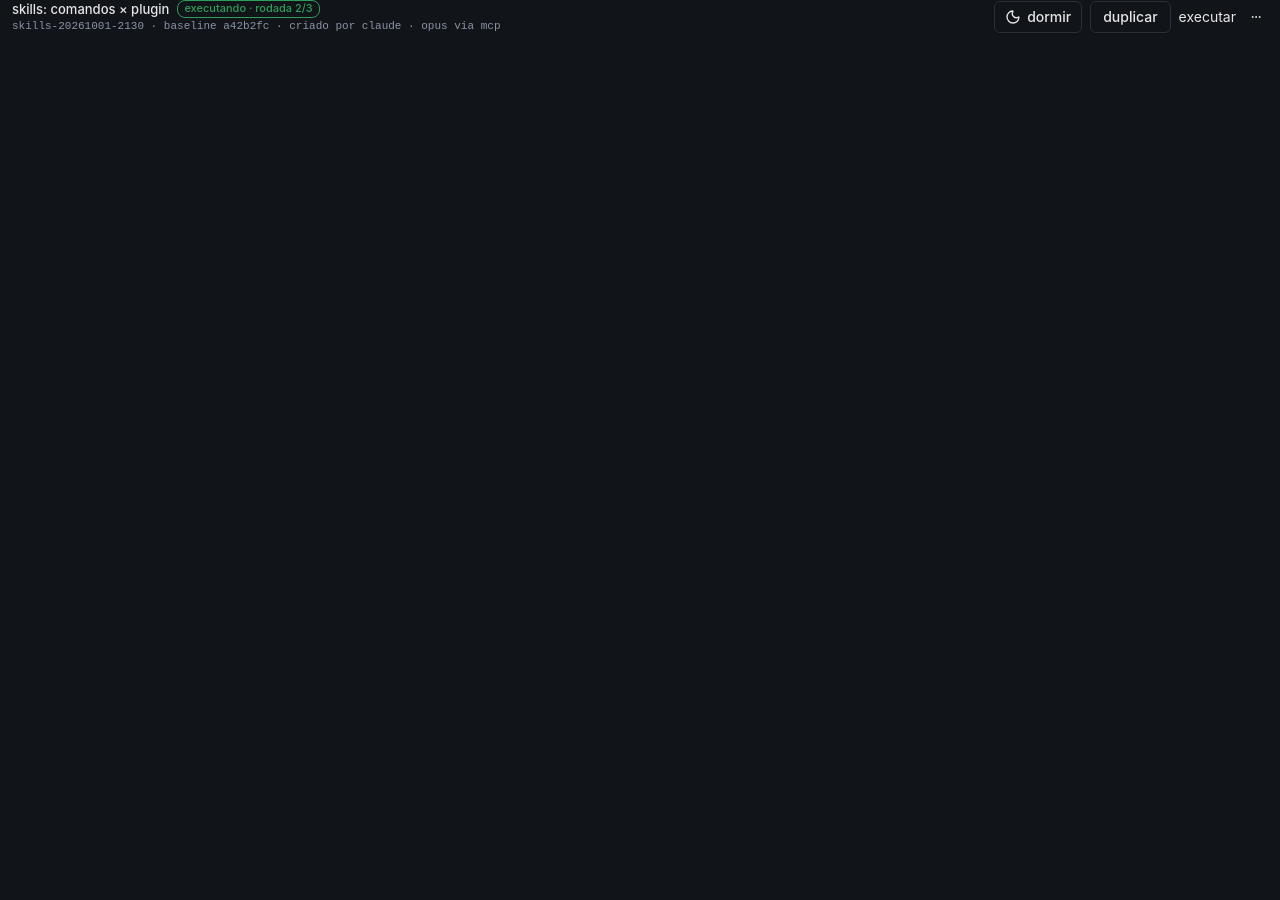
Test: dormir sits only while running and opens Dormir experimento; awake, the tab primary renders (#461, #468)
This screenshot has width=1280, height=900.
Check: the button "executar" is shown, box [1179,7,1236,27]
Click the button "dormir".
click(1038, 17)  # box [994,1,1082,33]
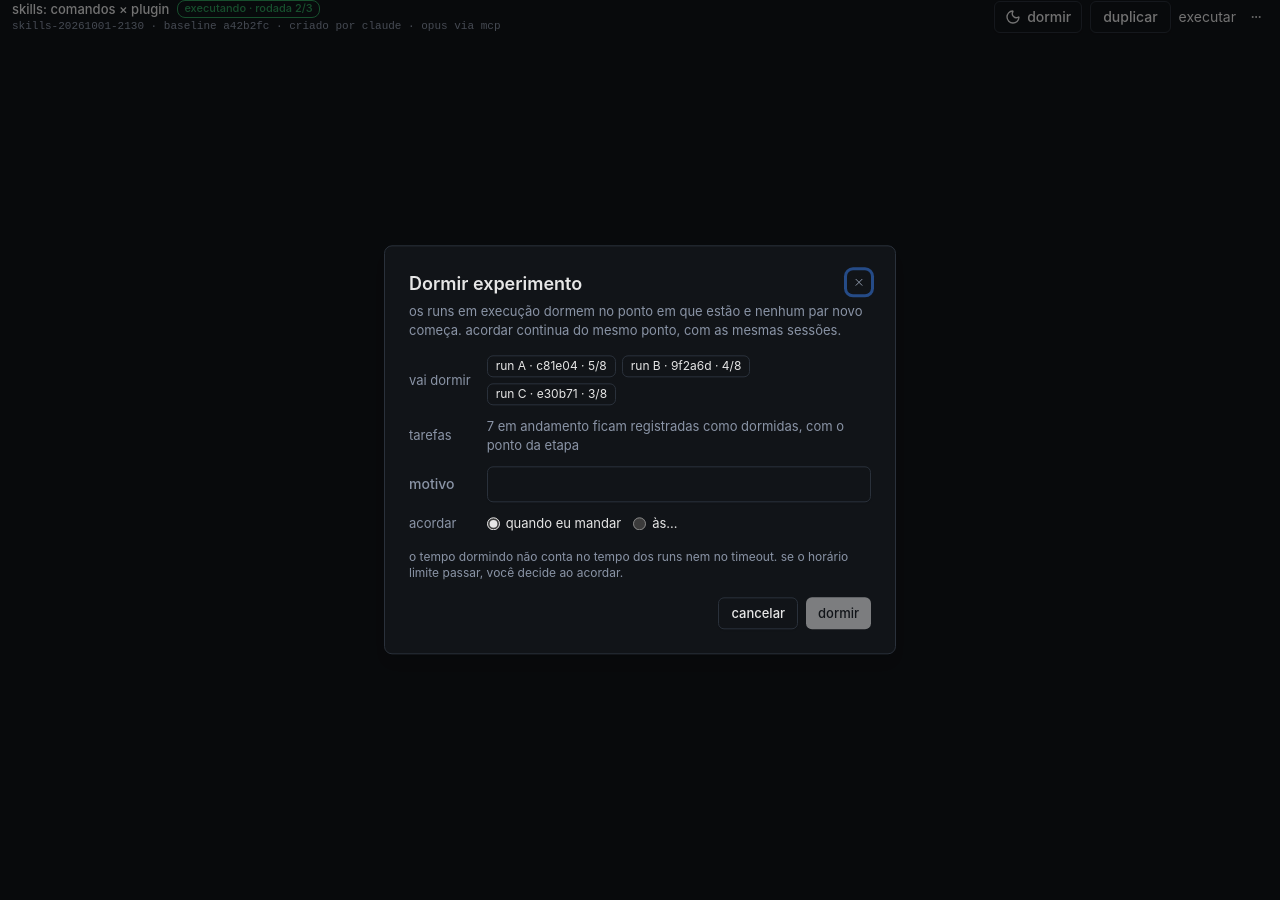
Check: the dialog "Dormir experimento" is shown, box [384,245,896,655]
Press Escape
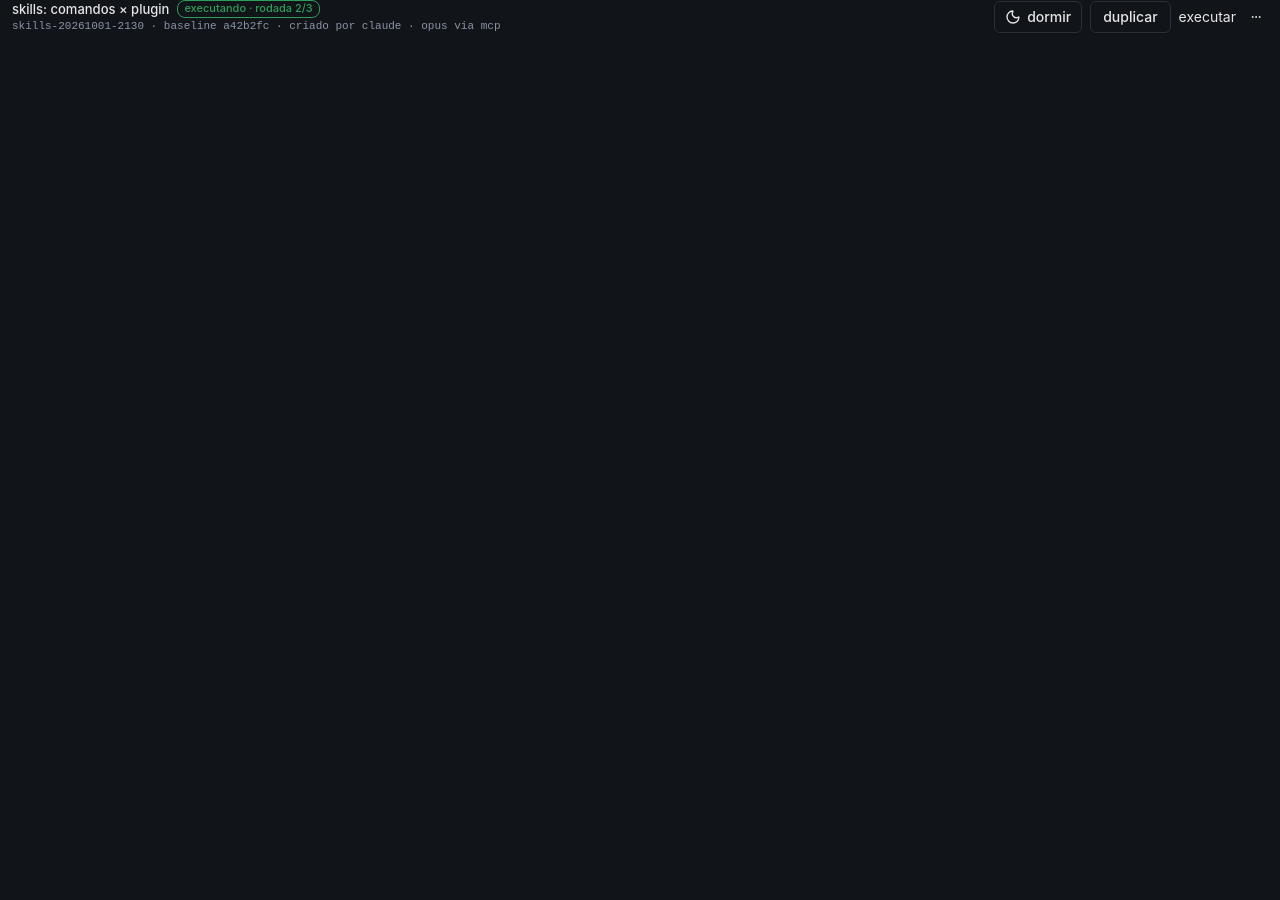
Check: the dialog is gone
